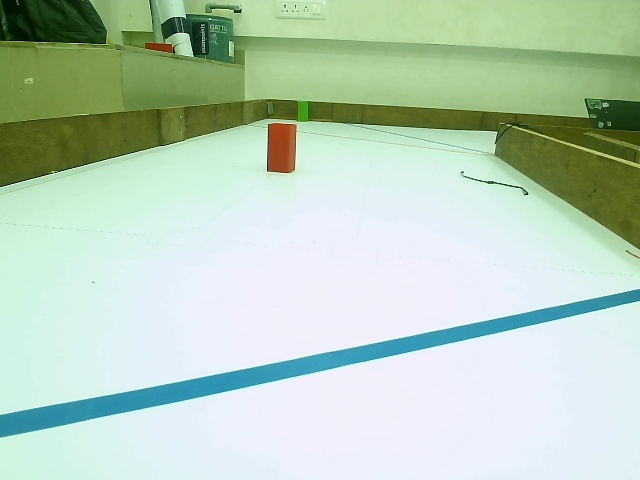red: (267, 124, 297, 172)
